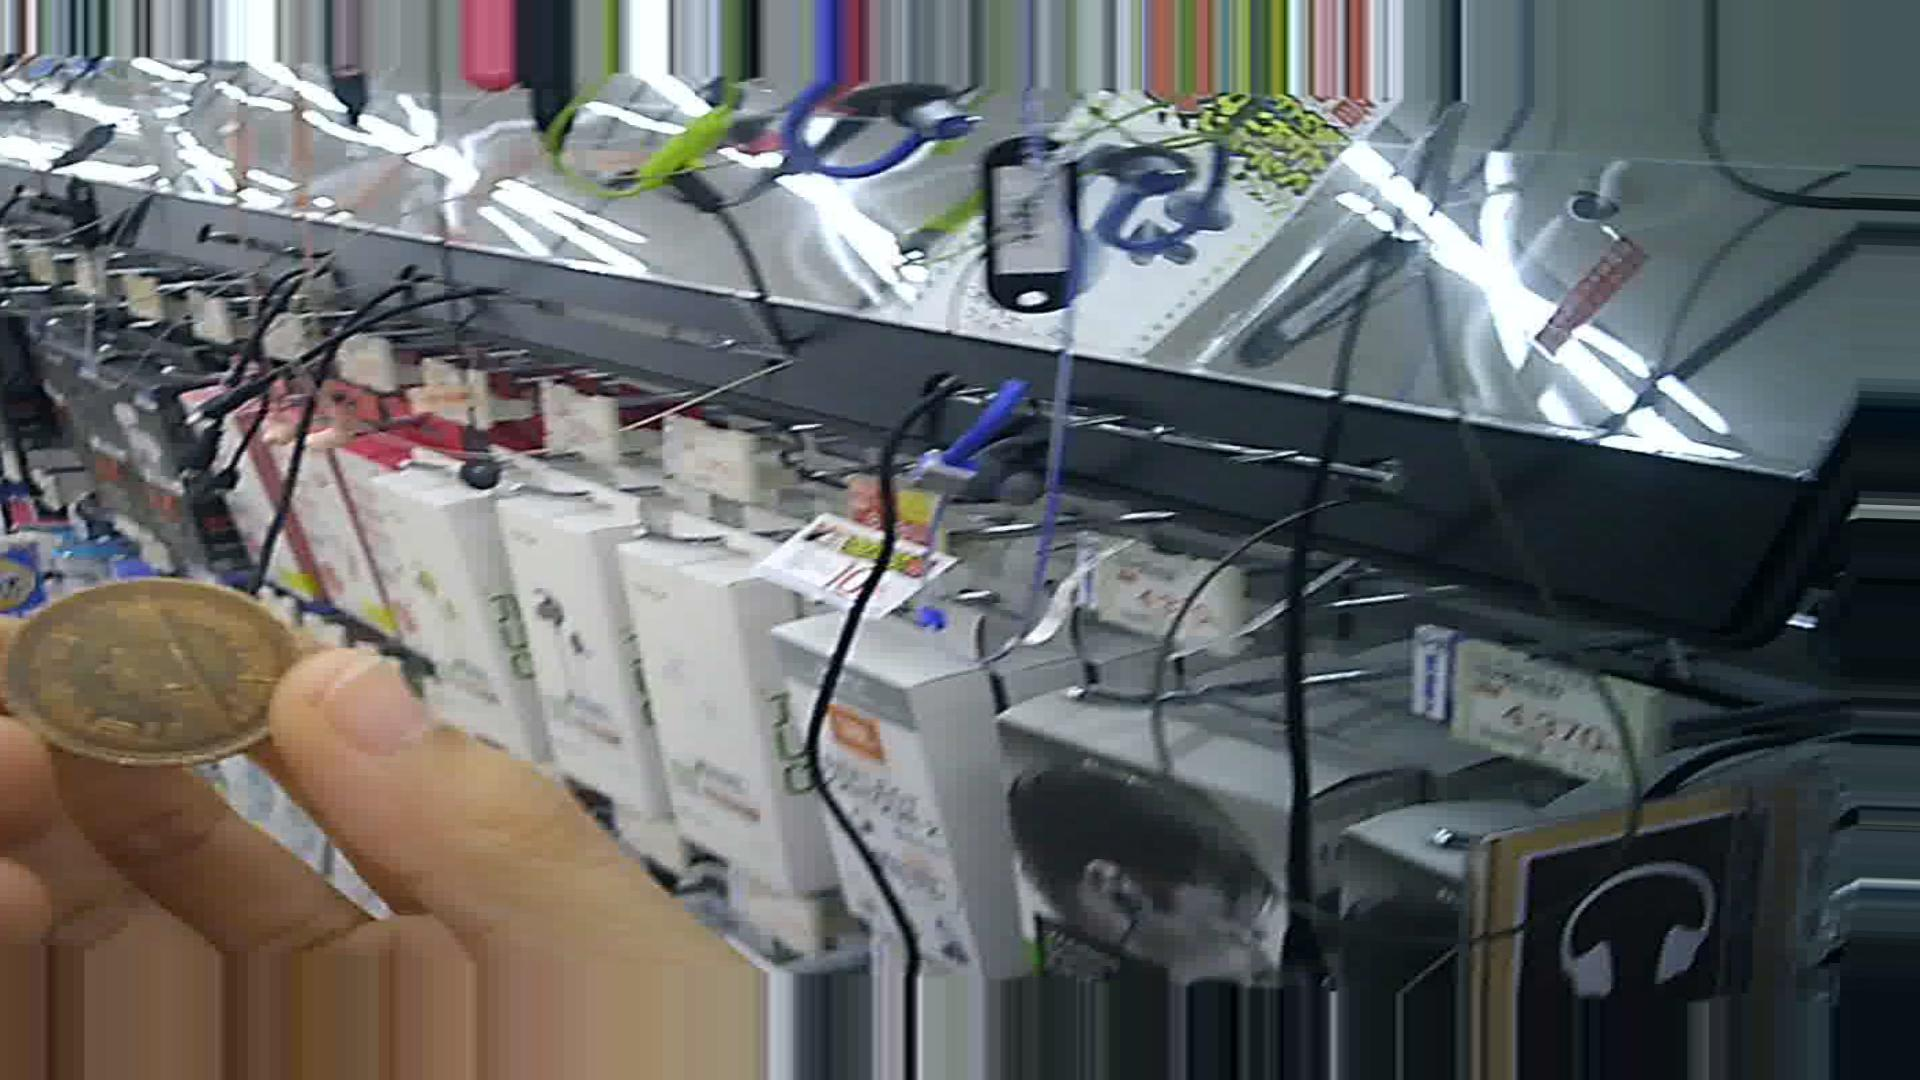10 Yen: (16, 575, 290, 757)
